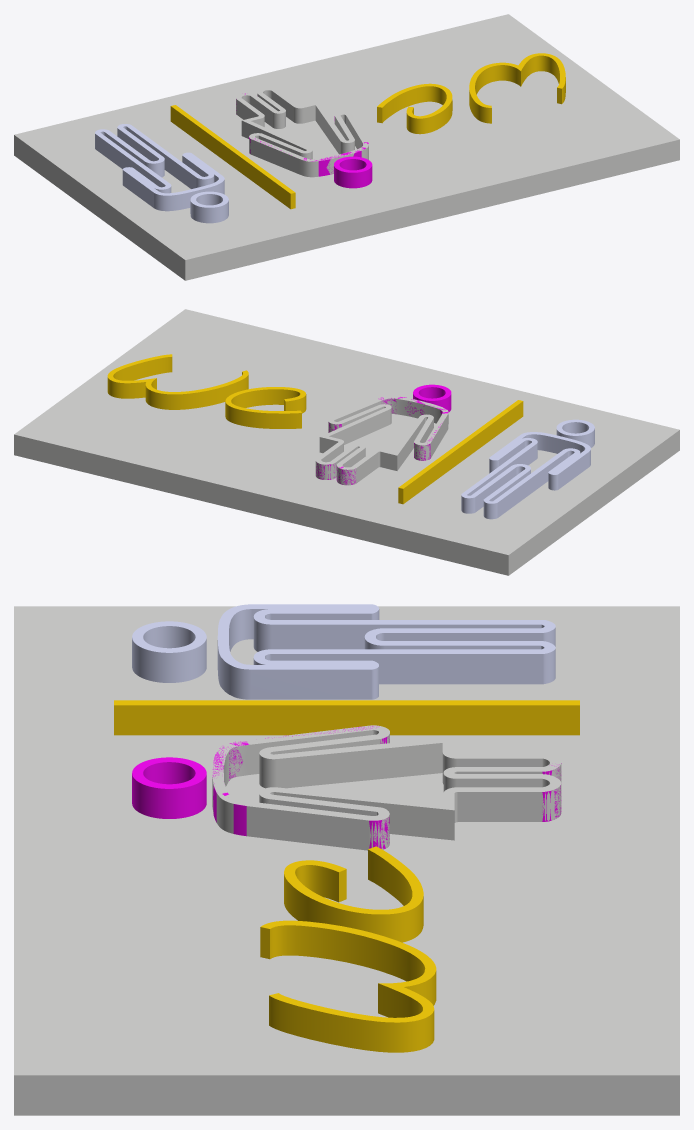
The model's file is wc_fume.glb.
3 renders of one model, top to bottom at view 1: azimuth 30°, elevation 25°; view 2: azimuth 150°, elevation 25°; view 3: azimuth 270°, elevation 25°, orthographic. The views are drawn at different scales.
Visible parts, largest first — view 1: Body10, Body5, Body3, Body9, Body2, Body6, Body7, Body11; view 2: Body10, Body5, Body9, Body2, Body3, Body11, Body6, Body7; view 3: Body10, Body5, Body3, Body9, Body2, Body6, Body7, Body11.
Boxes of the visible parts, x1,y1,x2,y2 form: Body10: (14,14,679,280); Body5: (95,124,224,211); Body3: (170,105,295,209); Body9: (469,53,565,123); Body2: (377,83,452,134); Body6: (190,191,228,223); Body7: (334,156,372,188); Body11: (236,93,368,176); Body10: (14,309,679,575); Body5: (461,432,590,519); Body9: (107,354,248,409); Body2: (225,387,306,428); Body3: (398,400,523,504); Body11: (316,397,447,484); Body6: (556,419,594,447); Body7: (413,384,451,412); Body10: (14,606,679,1115); Body5: (217,604,555,699); Body3: (114,700,579,735); Body9: (260,920,436,1052); Body2: (284,846,423,942); Body6: (132,621,206,682); Body7: (132,757,206,818); Body11: (212,726,561,849).
Size of the model in its own units: 0.5 by 0.035 by 0.3.
